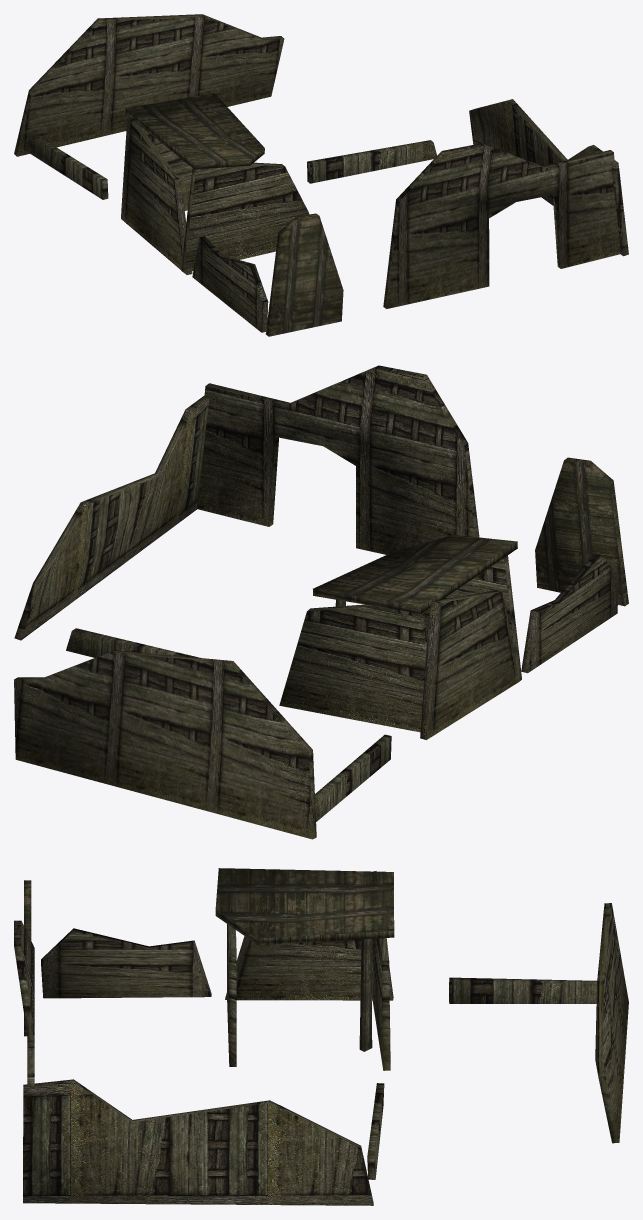
The model's file is OW_BROKENHUT.glb.
3 renders of one model, top to bottom at view 1: azimuth 30°, elevation 25°; view 2: azimuth 150°, elevation 25°; view 3: azimuth 270°, elevation 25°, orthographic. The views are drawn at different scales.
Visible parts, largest first — view 1: Mesh; view 2: Mesh; view 3: Mesh.
Part boxes in pixels (x1=…): Mesh: x1=14, y1=14, x2=628, y2=336; Mesh: x1=14, y1=365, x2=628, y2=839; Mesh: x1=14, y1=868, x2=628, y2=1205.
Size of the model in its own units: 14.96 by 6.06 by 18.92.
Materials: 2 (2 with a texture image).
